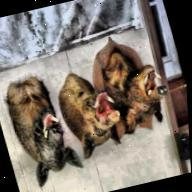boar: (7, 75, 83, 190)
